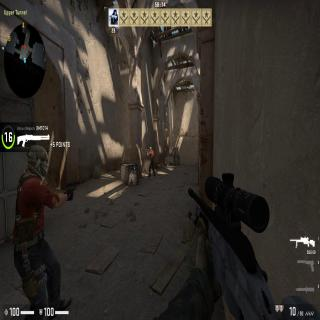T-Body: (6, 143, 72, 318), (147, 146, 156, 178)
T-Head: (26, 146, 46, 177), (149, 146, 152, 151)
